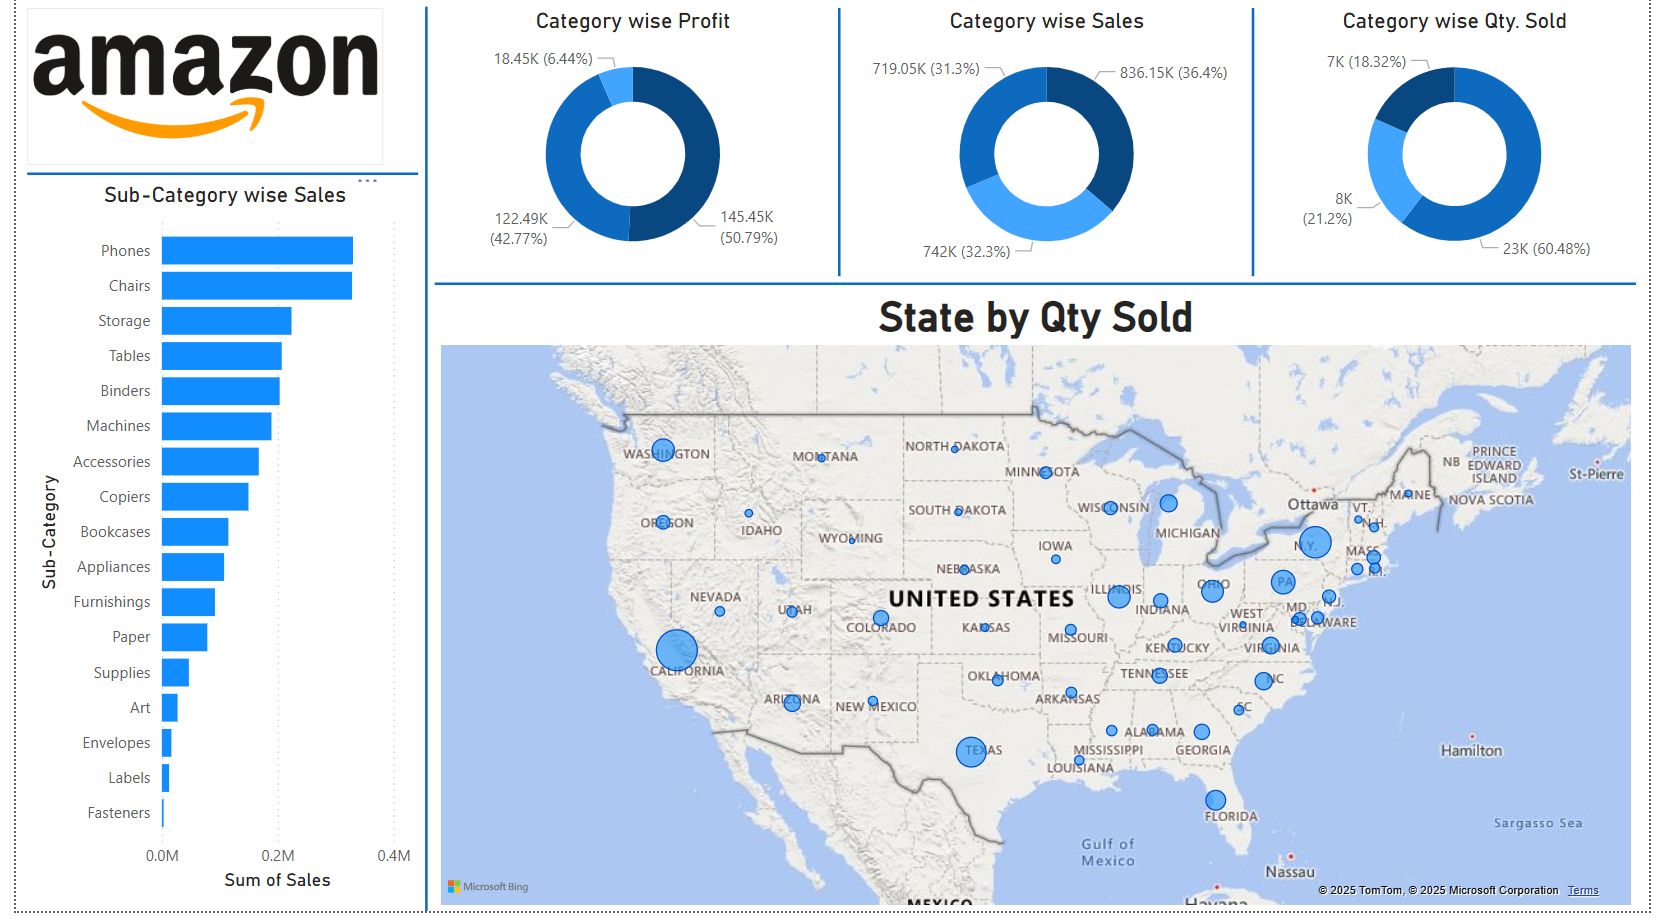

The page's visual inventory and layout, read from the dashboard file:
{"tool":"powerbi","page":{"name":"Sales Report","canvas":[1280,720],"ordinal":0},"visuals":[{"type":"image","box":[8.6,11.5,279.4,123.8],"z":0},{"type":"shape","box":[8.6,135.4,306.7,13],"z":1000},{"type":"clusteredBarChart","title":"Sub-Category wise Sales","fields":{"Category":["Orders.Sub-Category"],"Y":["Sum(Orders.Sales)"]},"box":[13,148.3,302.4,560.2],"z":2000},{"type":"shape","box":[315.6,11,12.3,709.4],"z":3000},{"type":"shape","box":[328.3,221.8,941.8,13],"z":4000},{"type":"donutChart","title":"Category wise Profit","fields":{"Category":["Orders.Category"],"Y":["Sum(Orders.Profit)"]},"box":[328.3,11.5,311,210.2],"z":5000},{"type":"shape","box":[639.4,11.5,13,210.2],"z":6000},{"type":"donutChart","title":"Category wise Sales","fields":{"Category":["Orders.Category"],"Y":["Sum(Orders.Sales)"]},"box":[652.3,11.5,311,210.2],"z":7000},{"type":"shape","box":[963.4,11.5,13,210.2],"z":8000},{"type":"donutChart","title":"Category wise Qty. Sold","fields":{"Category":["Orders.Category"],"Y":["Sum(Orders.Quantity)"]},"box":[976.3,11.5,303.8,210.2],"z":9000},{"type":"map","title":"State by Qty Sold","fields":{"Category":["Orders.State"],"Size":["Sum(Orders.Quantity)"]},"box":[328,234.6,942.7,485.8],"z":10000}]}

Visuals, with their boxes in screenshot pixels (x1, y1, x2, y2), scaled from the page's 1280x720 canvas onto the 1672x920 screenshot:
image: [11, 15, 376, 173]
shape: [11, 173, 412, 190]
"Sub-Category wise Sales" clusteredBarChart: [17, 189, 412, 905]
shape: [412, 14, 428, 919]
shape: [429, 283, 1659, 300]
"Category wise Profit" donutChart: [429, 15, 835, 283]
shape: [835, 15, 852, 283]
"Category wise Sales" donutChart: [852, 15, 1258, 283]
shape: [1258, 15, 1275, 283]
"Category wise Qty. Sold" donutChart: [1275, 15, 1671, 283]
"State by Qty Sold" map: [428, 300, 1660, 919]
